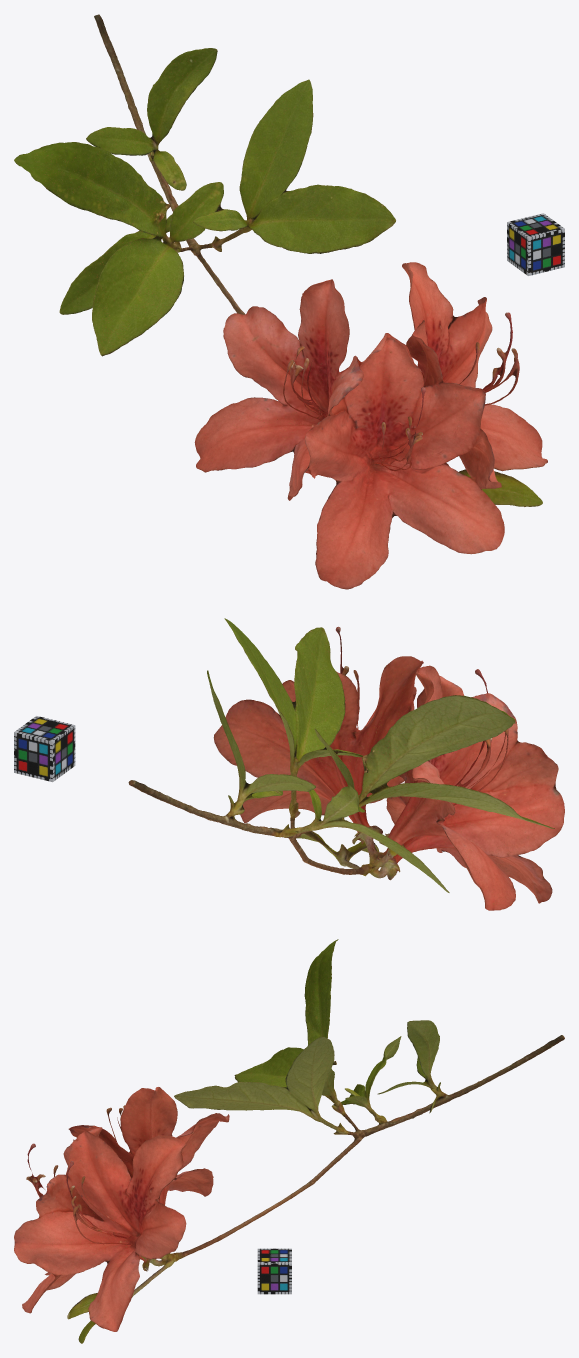
The model's file is cc0__moutain_azalea.glb.
3 views of the same model, one above another, from view 1: azimuth 30°, elevation 25°; view 2: azimuth 150°, elevation 25°; view 3: azimuth 270°, elevation 25° (orthographic). The views are drawn at different scales.
Visible parts, largest first — view 1: QS1694-W03-1-1_1, _Cube_0; view 2: QS1694-W03-1-1_1, _Cube_0; view 3: QS1694-W03-1-1_1, _Cube_0.
Boxes of the visible parts, <box> form: QS1694-W03-1-1_1: <box>14,14,547,589</box>; _Cube_0: <box>507,213,564,275</box>; QS1694-W03-1-1_1: <box>128,618,564,910</box>; _Cube_0: <box>14,716,75,782</box>; QS1694-W03-1-1_1: <box>14,939,564,1343</box>; _Cube_0: <box>257,1248,291,1294</box>.
Size of the model in its own units: 0.1363 by 0.0924 by 0.1601.
Materials: 2 (2 with a texture image).
